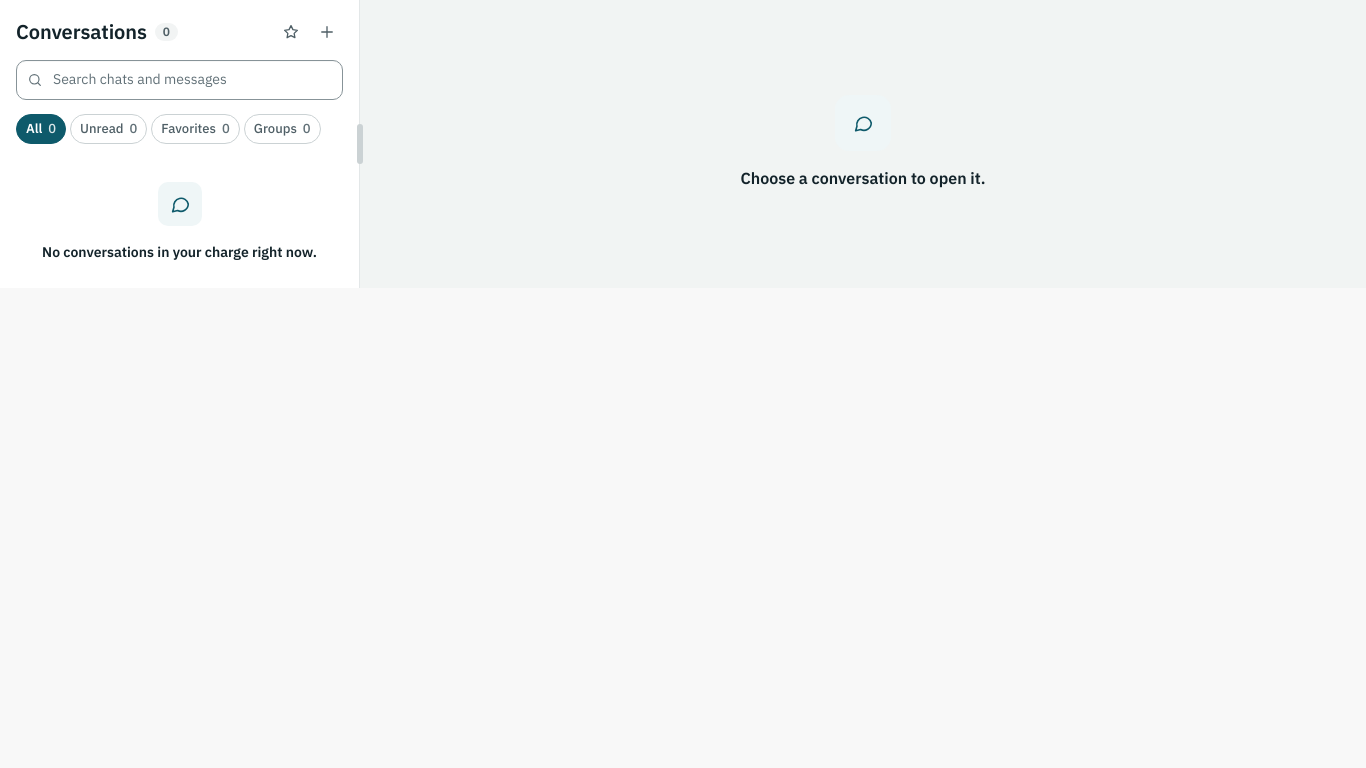
Scenario: Super admin: a new 1:1 chat (PD-8) › offers active teachers and parents -- never staff -- and opens the chat the server returns
Click the button named "New chat or group" at {"x": 327, "y": 32}, box left=311, top=16, right=343, bottom=48
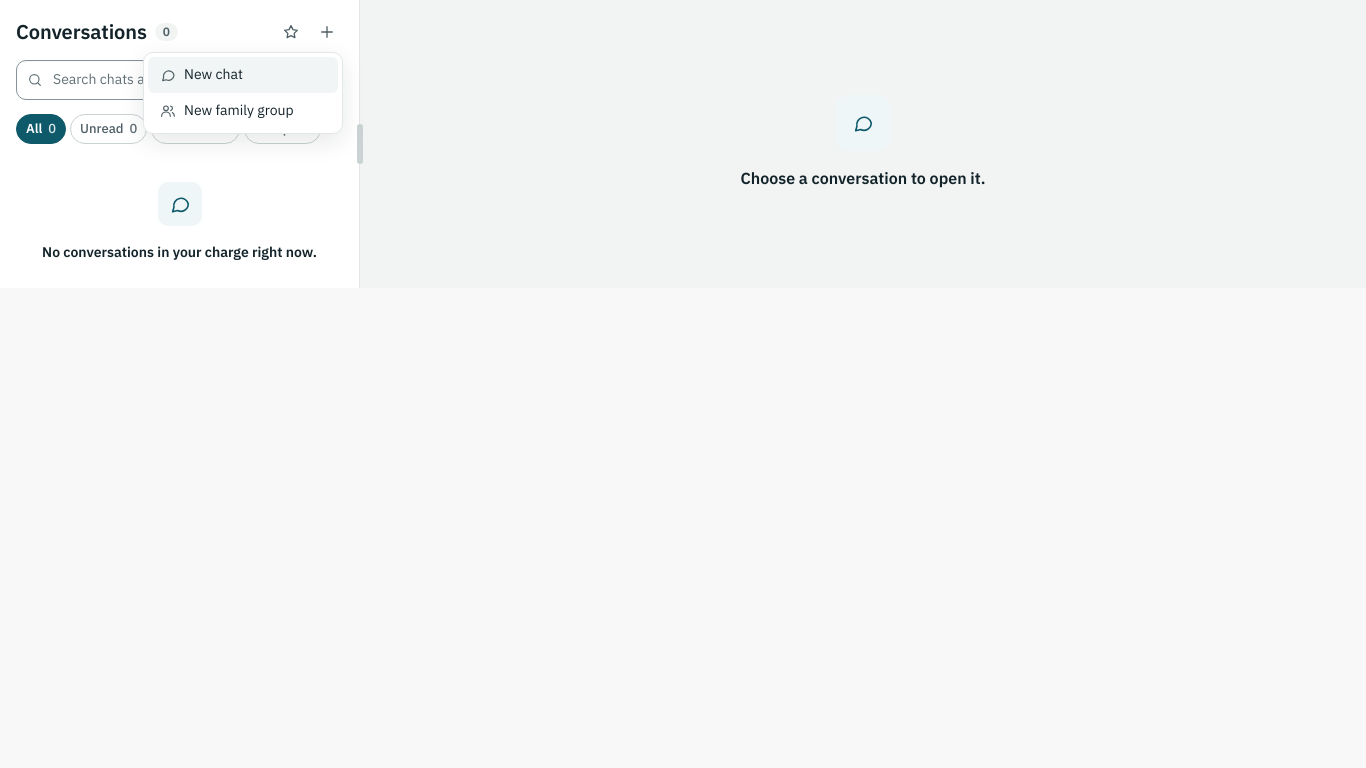
Click the menu item "New chat" at {"x": 243, "y": 75}, box left=148, top=57, right=338, bottom=93
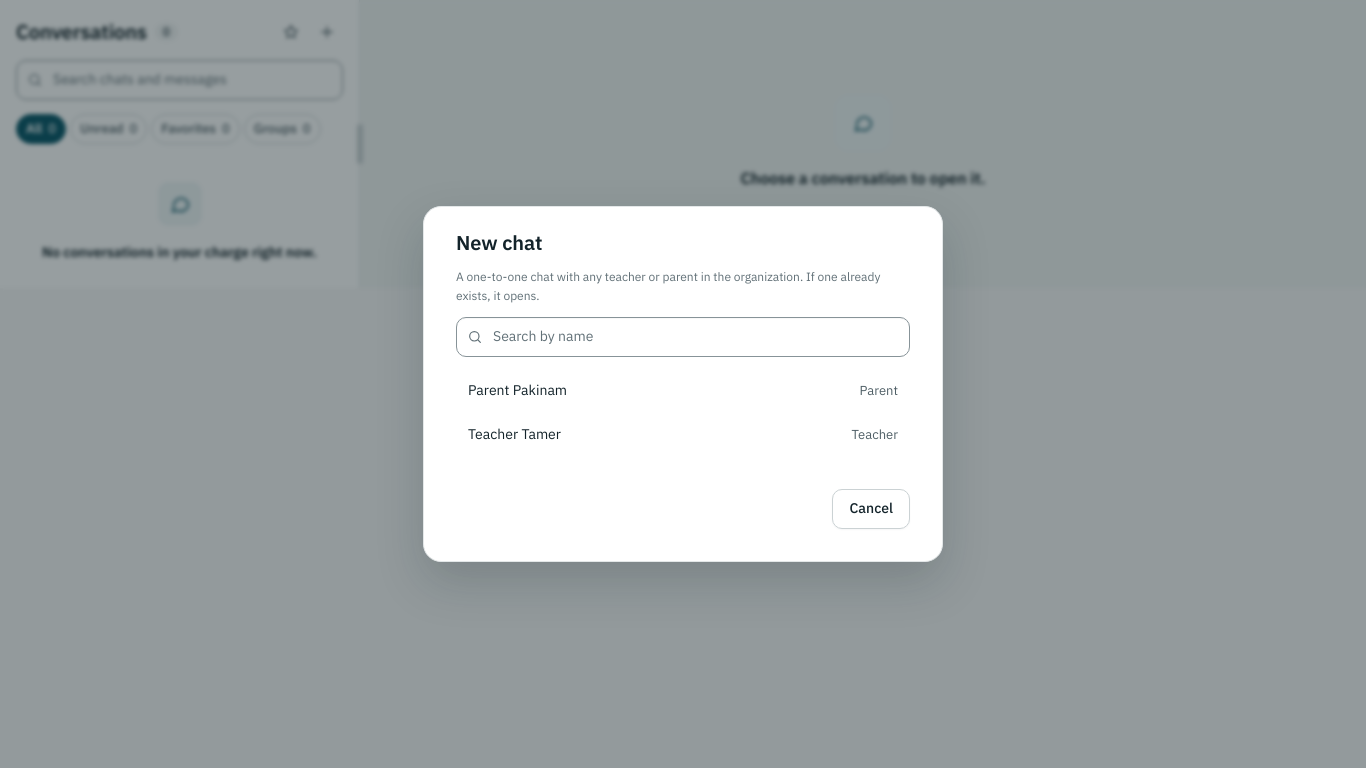
expect the text "Teacher Tamer" is shown: met, box left=468, top=424, right=561, bottom=446
expect the text "Parent Pakinam" is shown: met, box left=468, top=380, right=567, bottom=402
Type "pak" into the search field labelled "Search by name" at {"x": 683, "y": 337}, box left=456, top=317, right=910, bottom=357
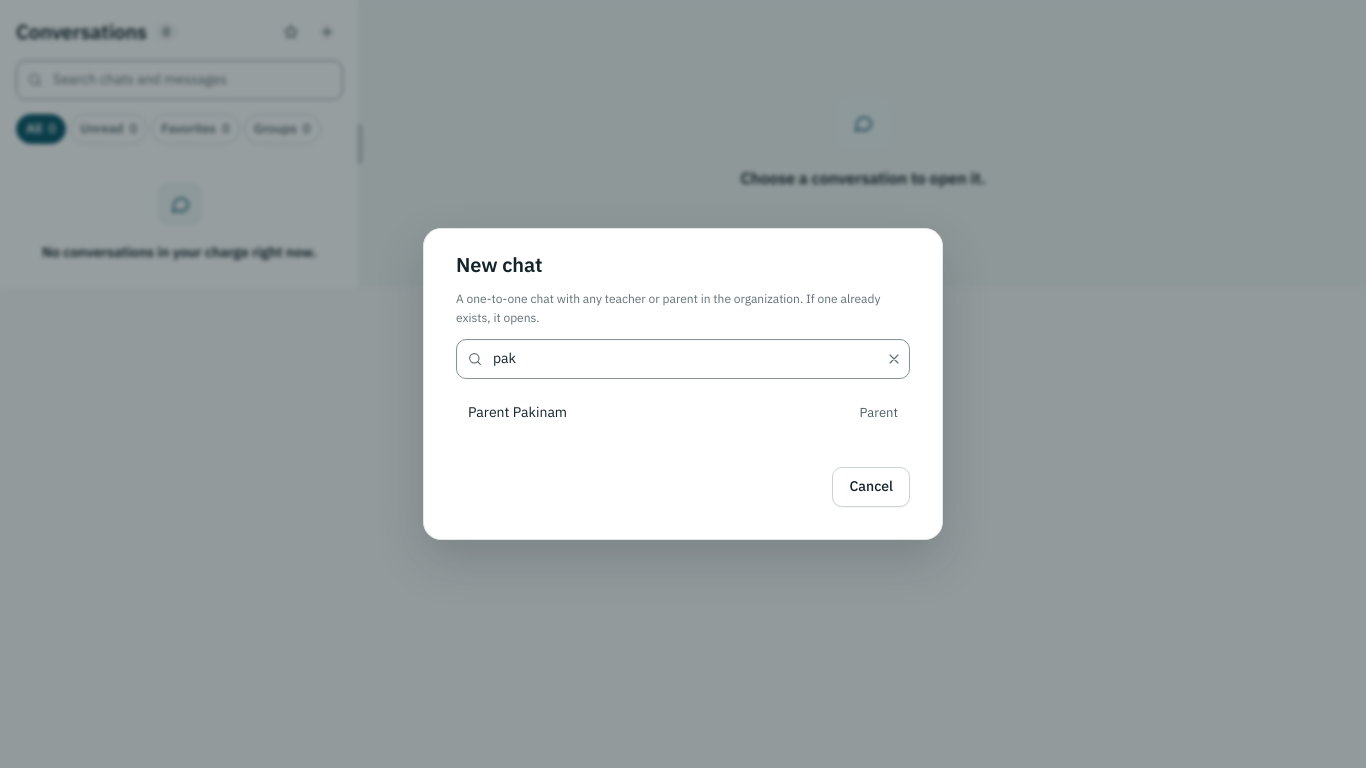
expect the button "Teacher Tamer" is gone: met
Click the text "Parent Pakinam" at {"x": 518, "y": 413}, box left=468, top=402, right=567, bottom=424
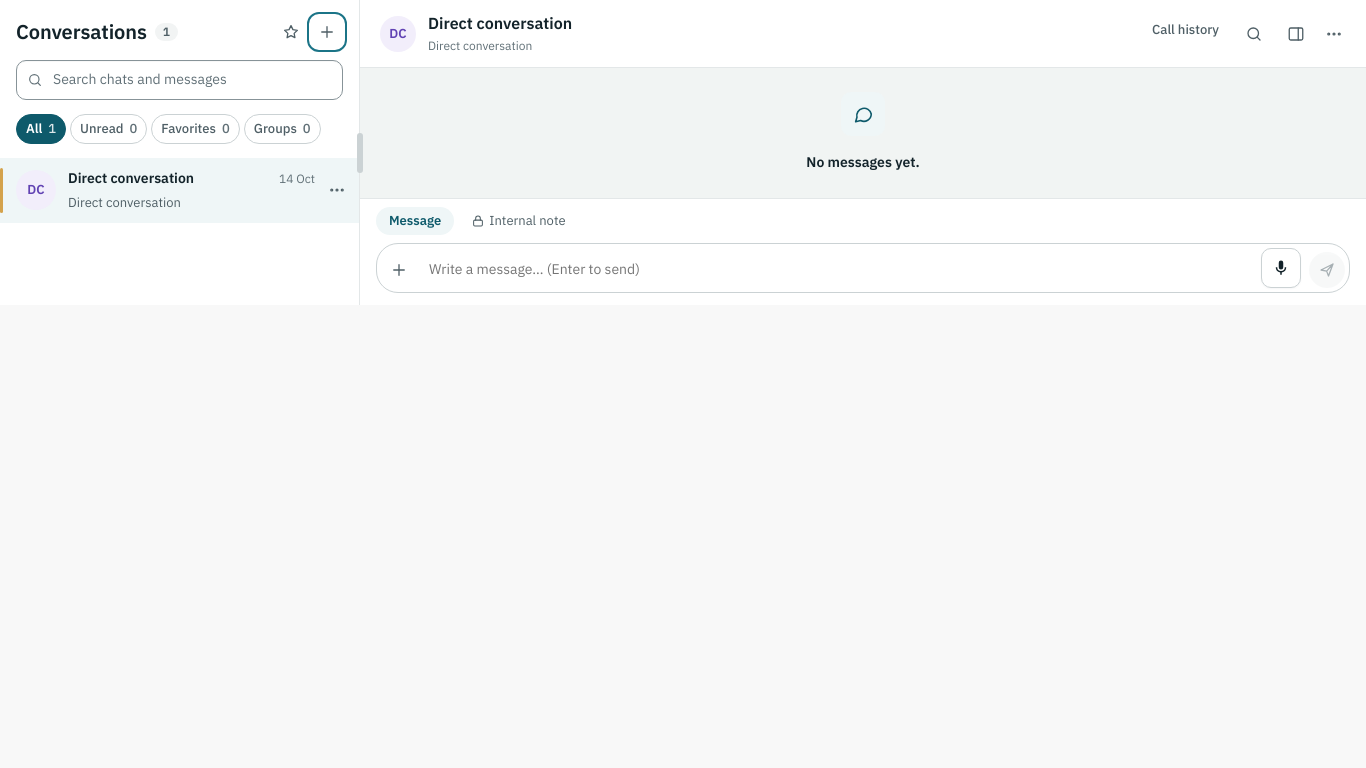
expect the dialog is gone: met
